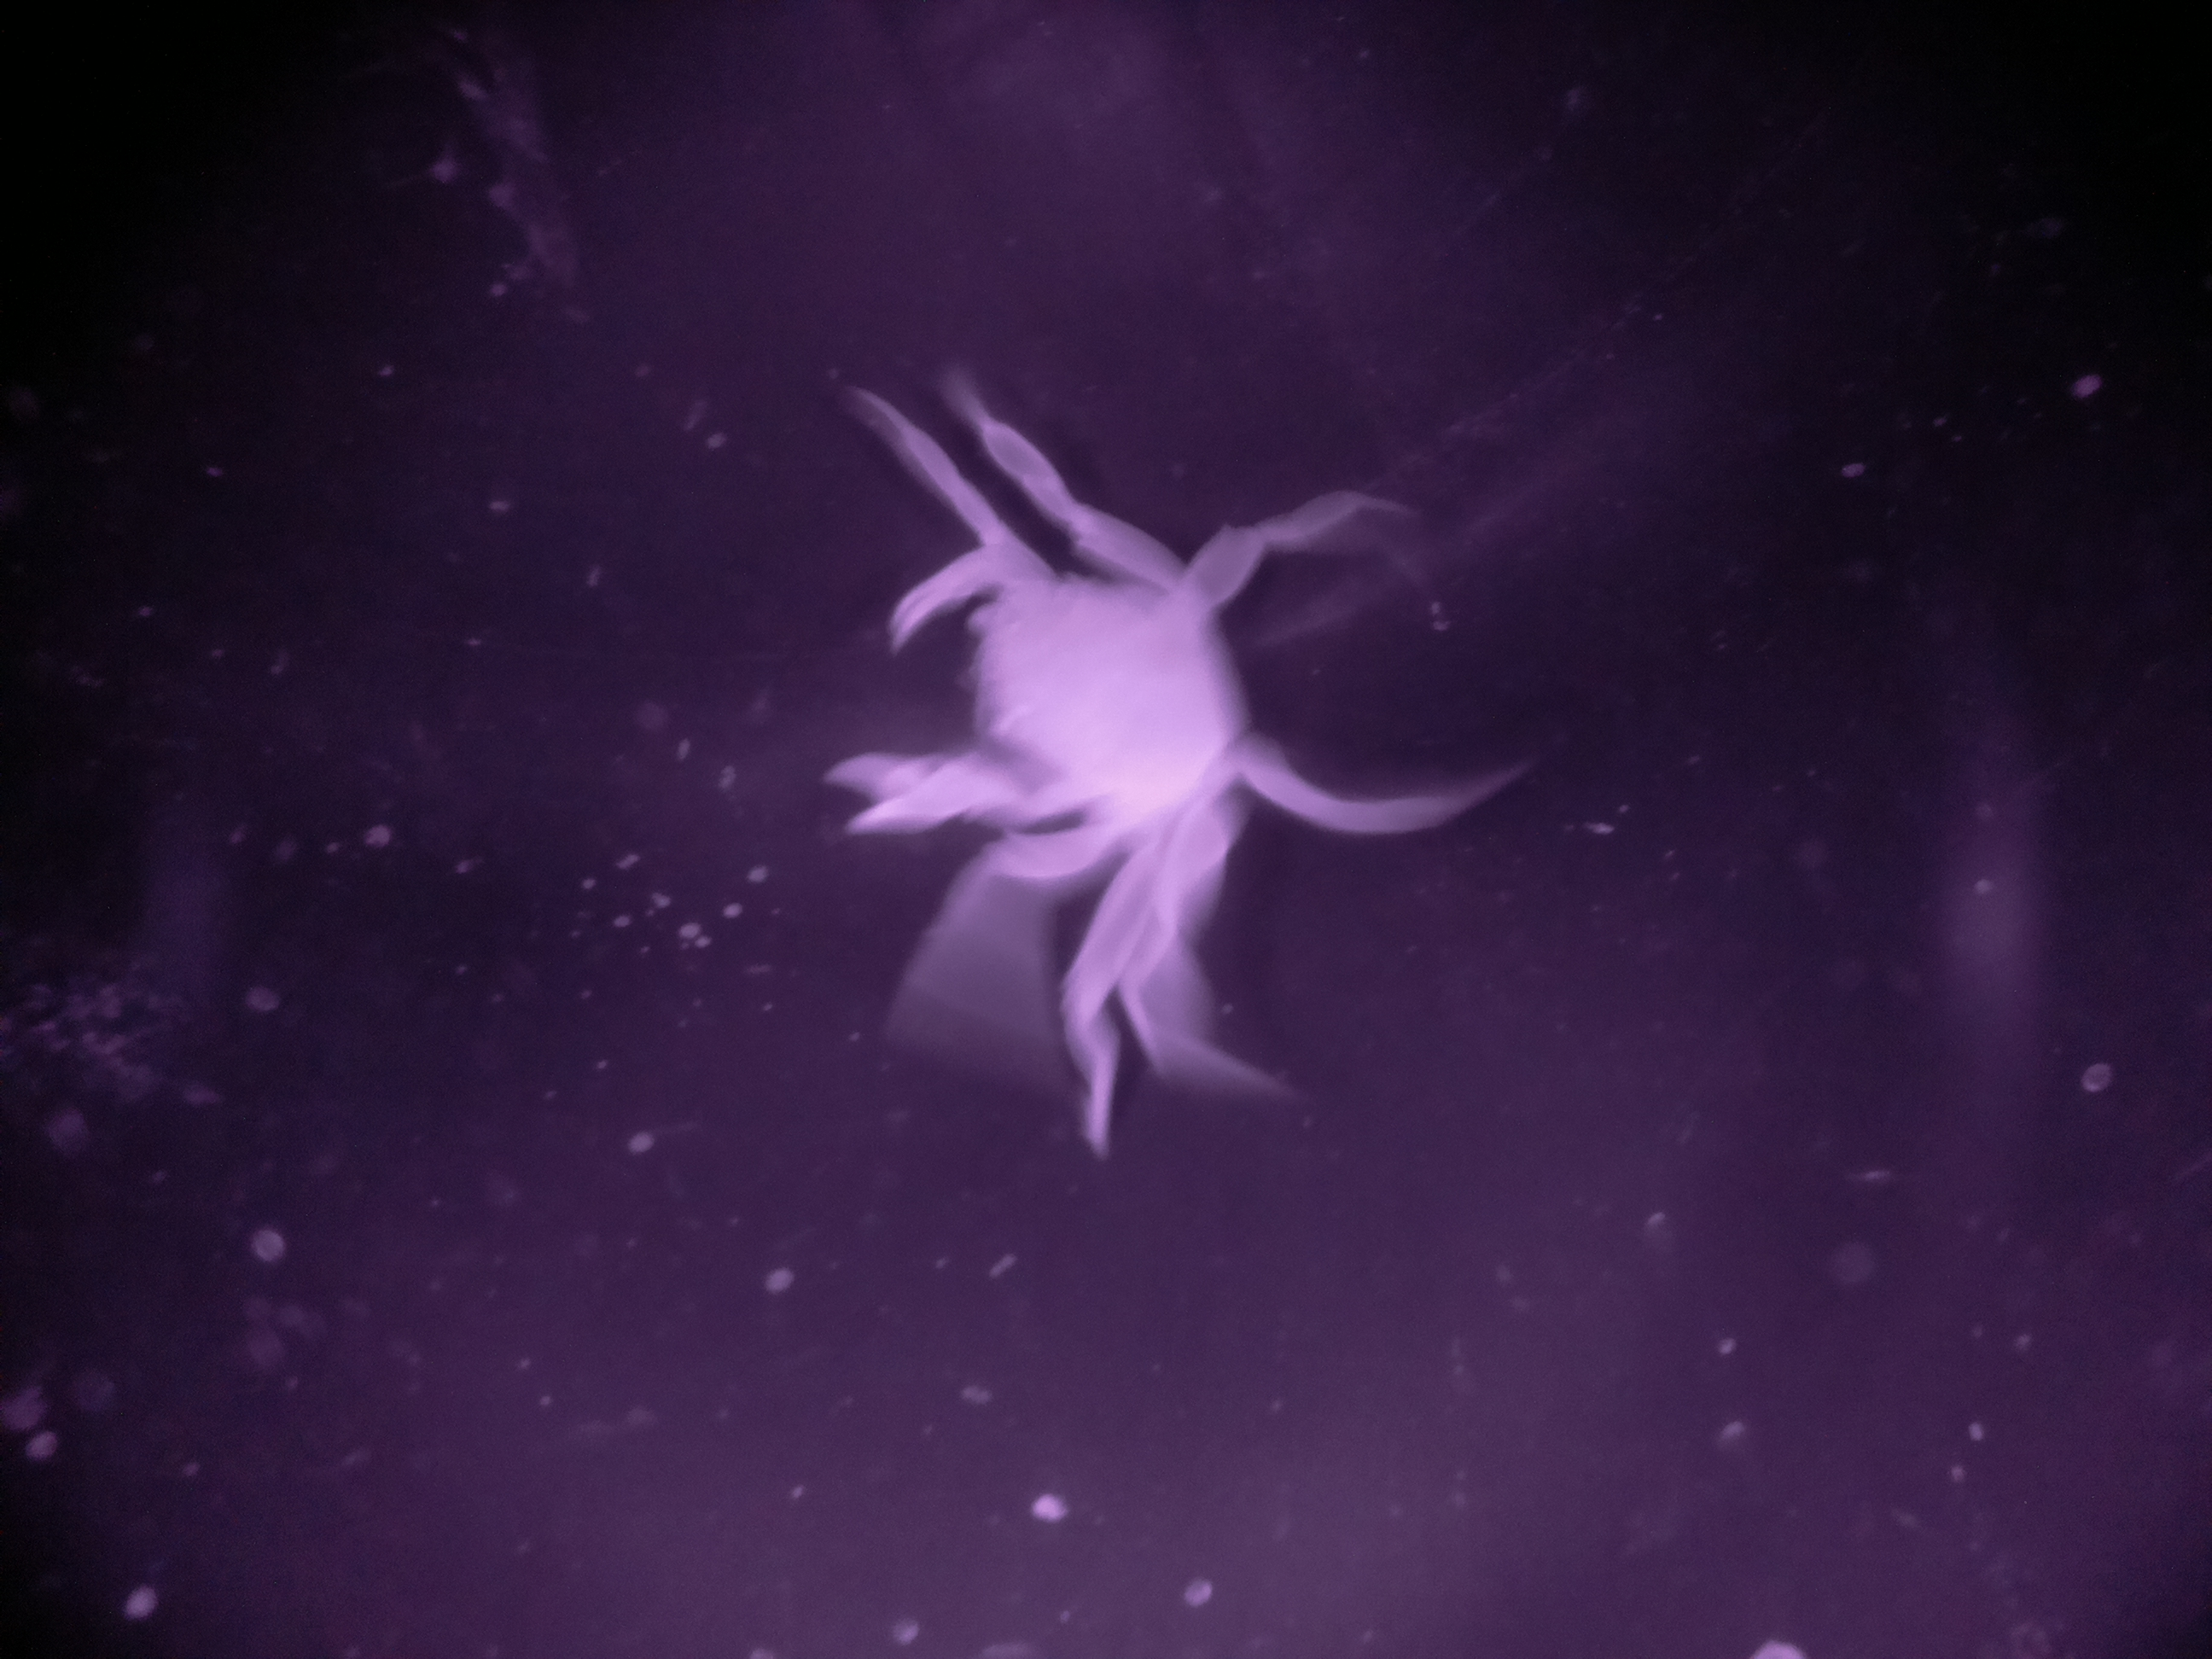Crab: (798, 434, 1430, 929)
